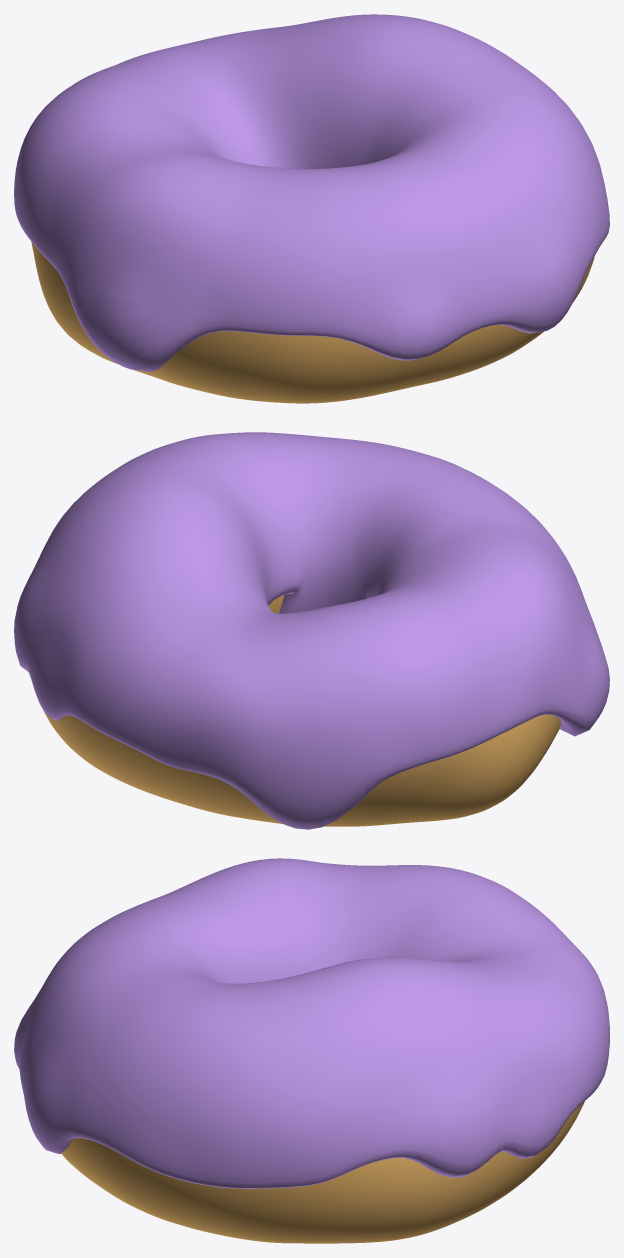
3 renders of one model, top to bottom at view 1: azimuth 30°, elevation 25°; view 2: azimuth 150°, elevation 25°; view 3: azimuth 270°, elevation 25°, orthographic. The views are drawn at different scales.
Visible parts, largest first — view 1: Icing, Donut; view 2: Icing, Donut; view 3: Icing, Donut.
Boxes of the visible parts, x1,y1,x2,y2 form: Icing: [14, 14, 609, 371]; Donut: [31, 242, 594, 403]; Icing: [14, 432, 609, 829]; Donut: [44, 595, 560, 826]; Icing: [14, 858, 609, 1188]; Donut: [61, 1101, 584, 1243].
Size of what is drawn, in the model's own units: 0.1032 by 0.0495 by 0.1055.
